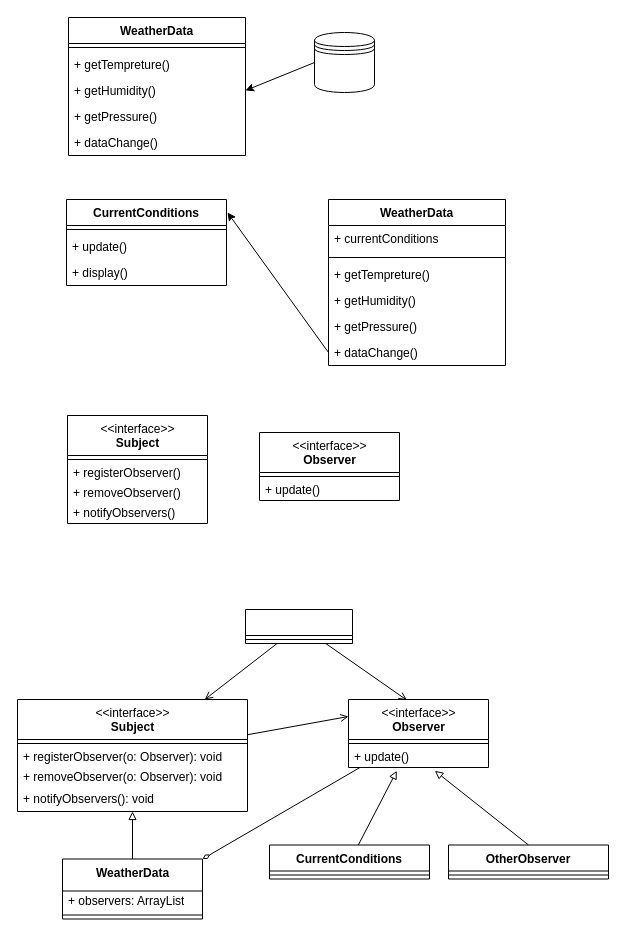
This 626x937 diagram has some shape labels left out. Here are the shapes that lost their labels. From the top down, the centre of each, then its label:
At (344,62): "气象站".
At (298,626): "Client".
